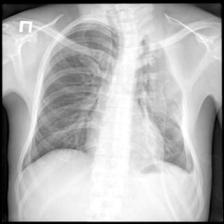tuberculosis: (19, 14, 200, 188)
